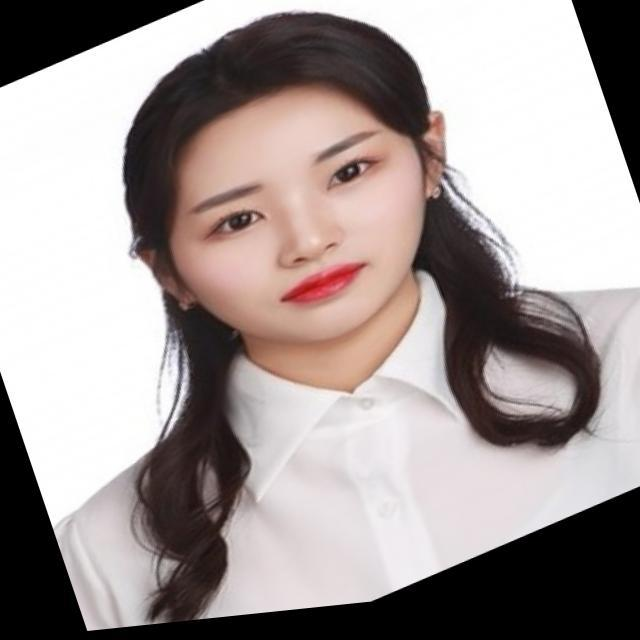Nonhelmet: (118, 0, 446, 363)
